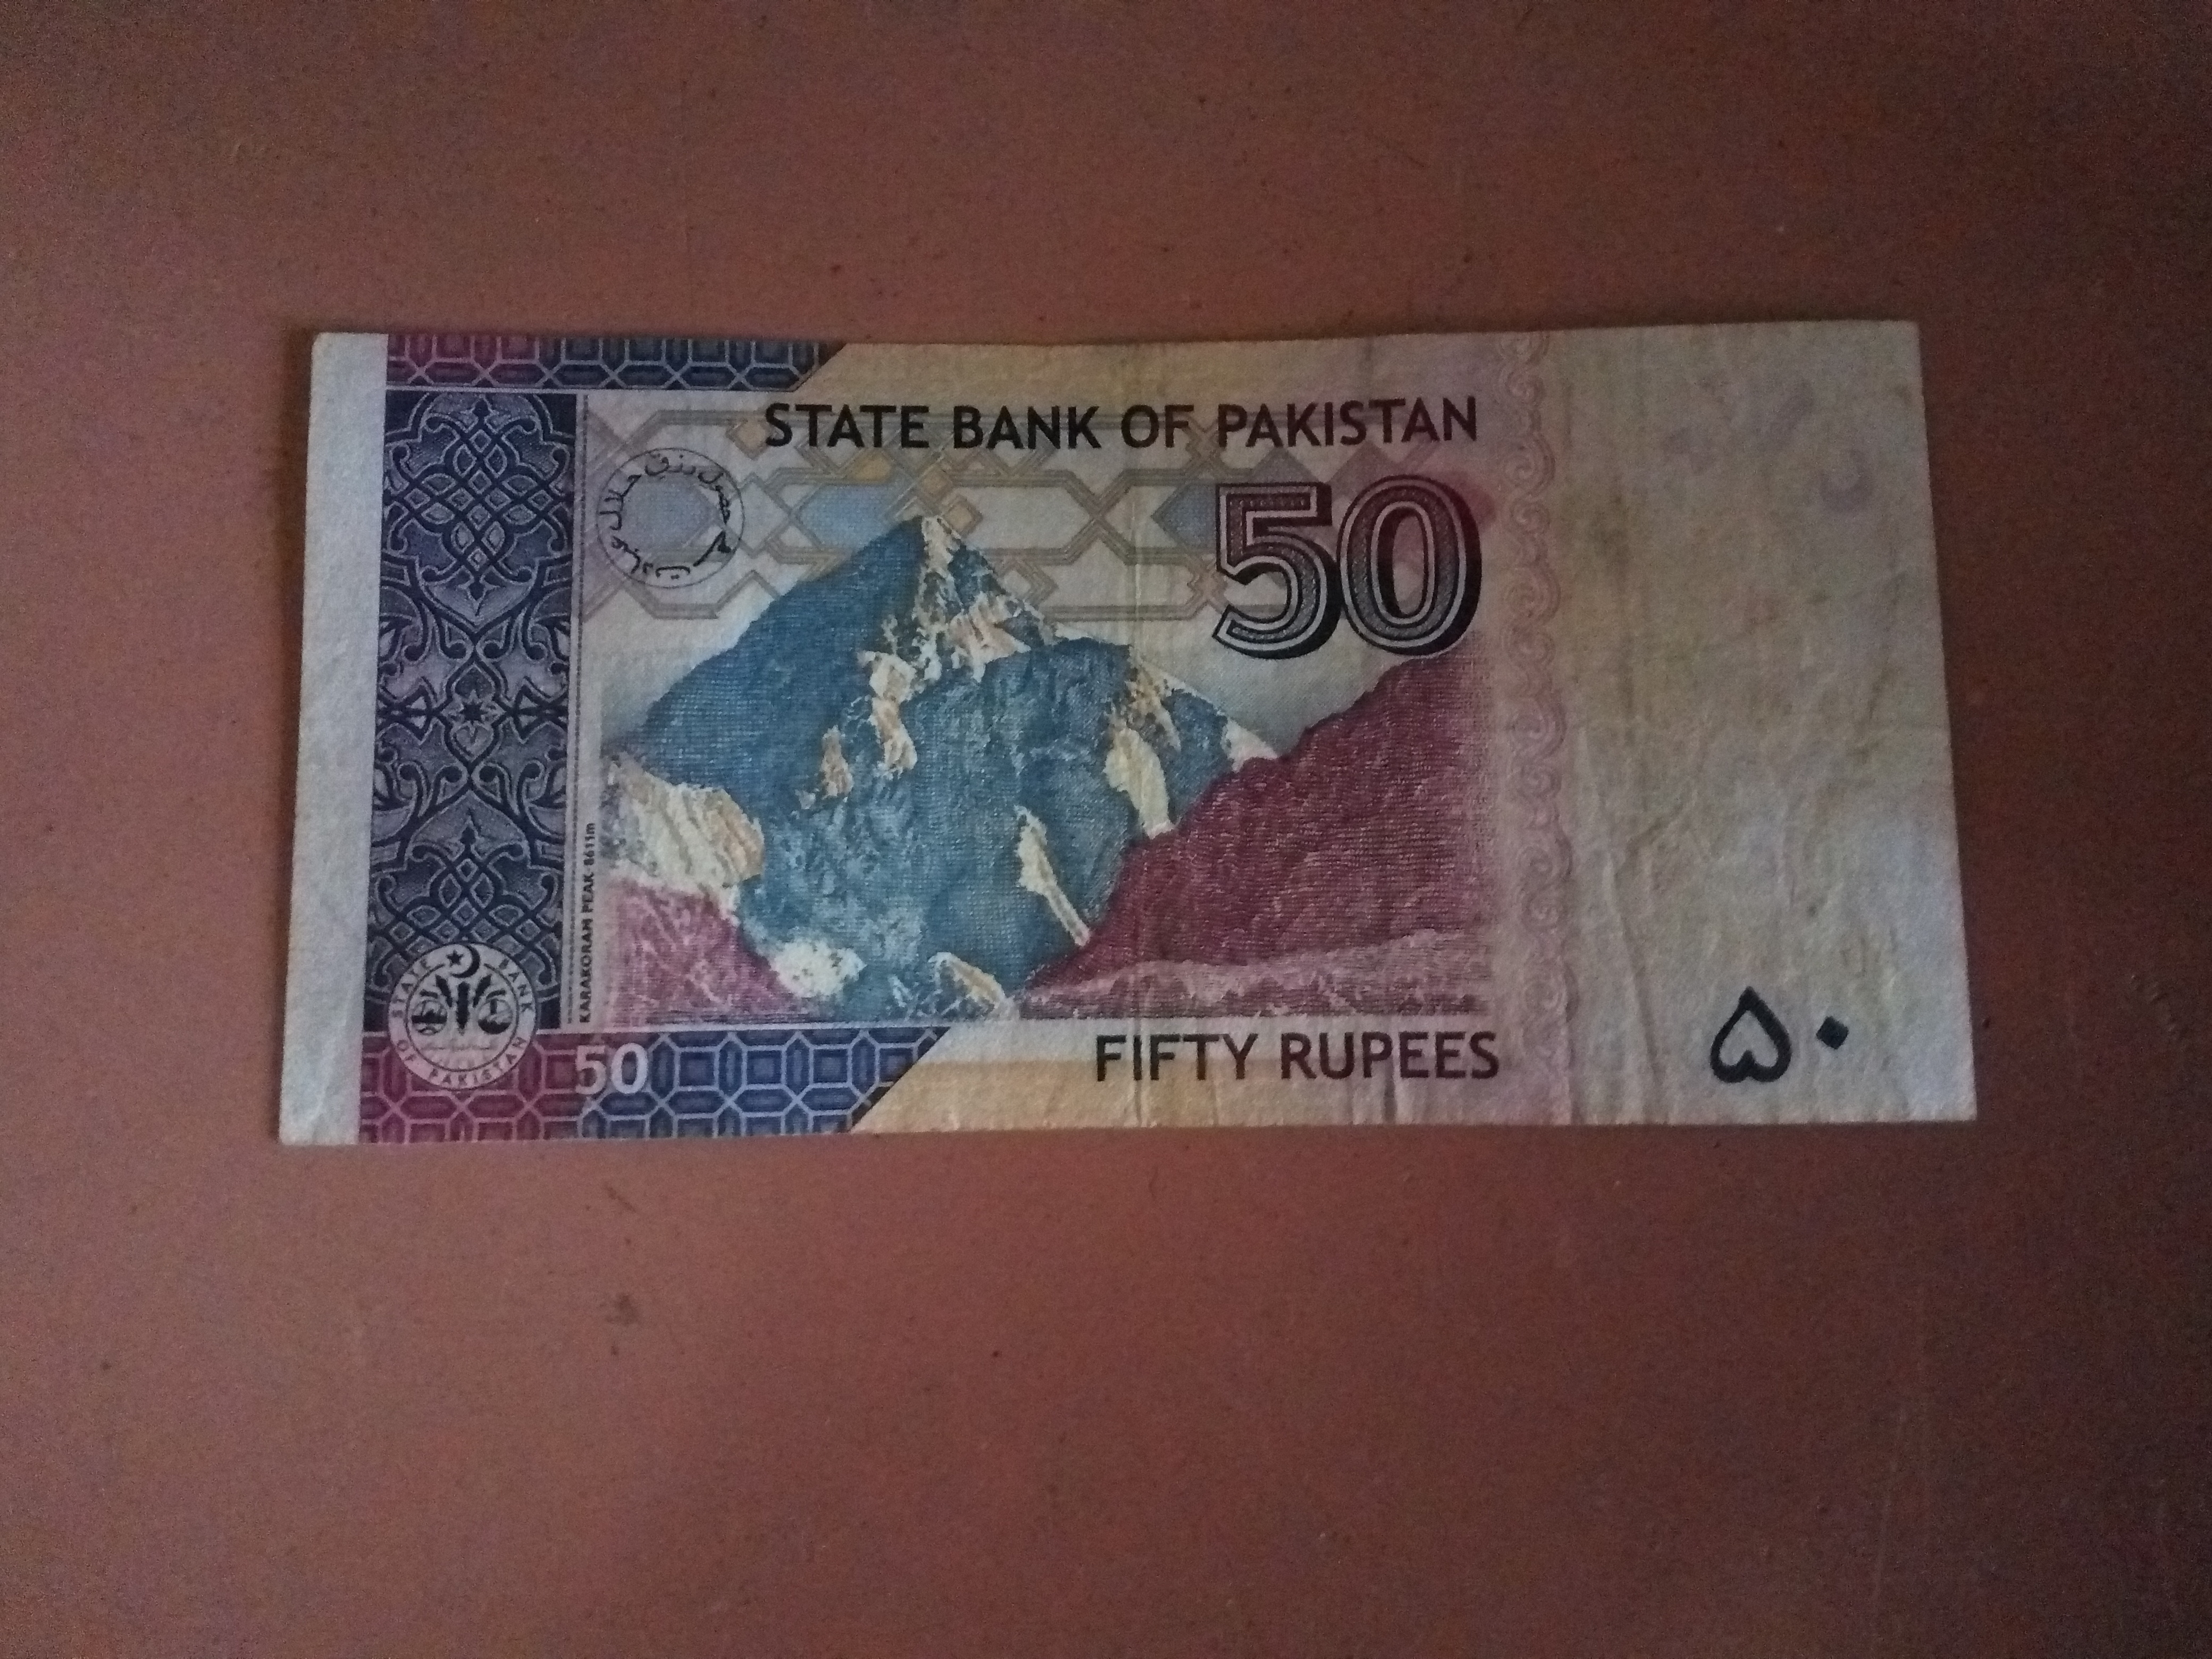50 rupee: (256, 303, 1989, 1176)
